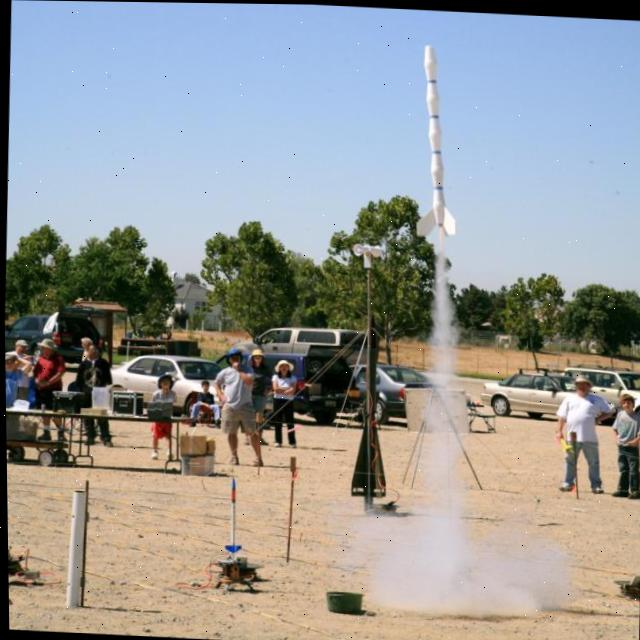missile: (403, 38, 467, 243)
